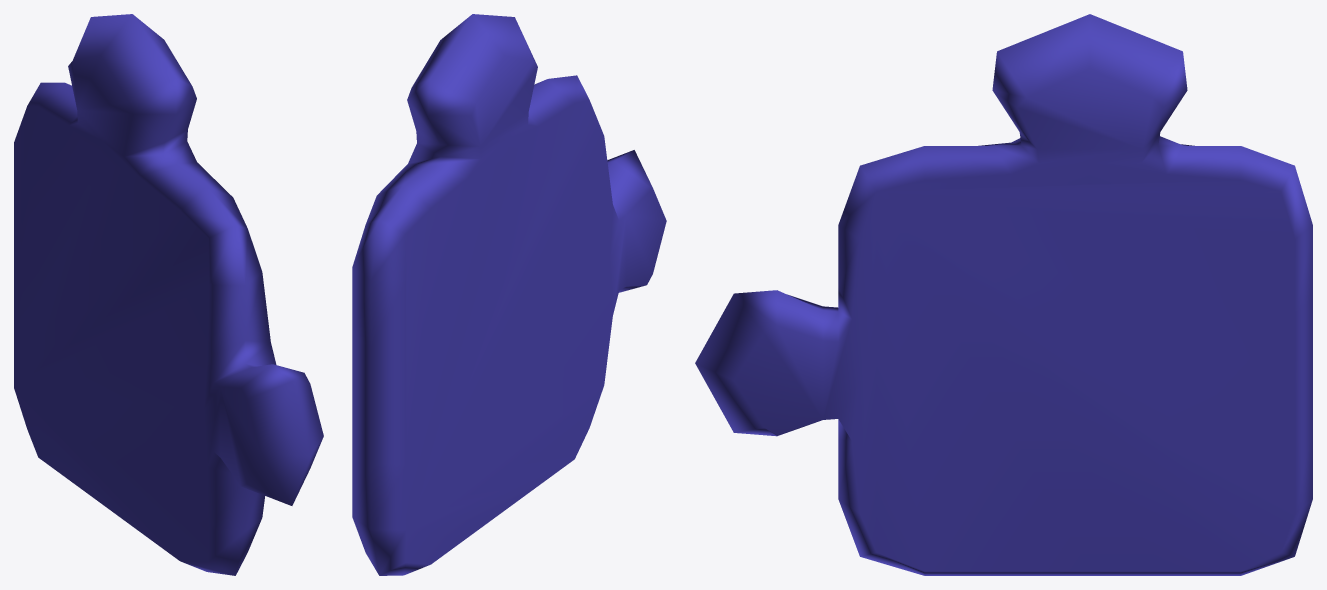
The model's file is MemFrag.fbx.
3 views of the same model, side by side, from view 1: azimuth 30°, elevation 25°; view 2: azimuth 150°, elevation 25°; view 3: azimuth 270°, elevation 25° (orthographic). The views are drawn at different scales.
Parts seen in each view (by area): view 1: Mem_Frag; view 2: Mem_Frag; view 3: Mem_Frag.
Part boxes in pixels (<box>): Mem_Frag: <box>14,14,323,575</box>; Mem_Frag: <box>352,14,666,575</box>; Mem_Frag: <box>695,14,1312,575</box>.
Size of the model in its own units: 0.7463 by 5.22 by 5.2.
